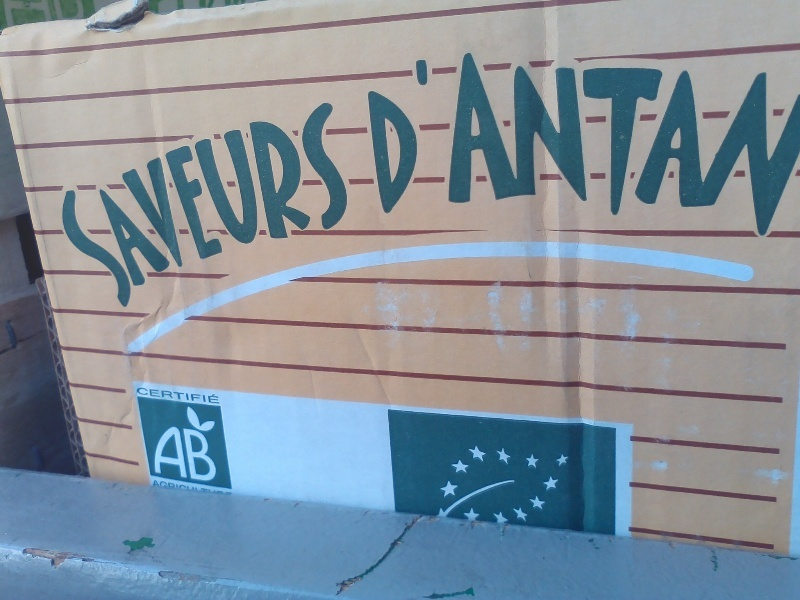text: (49, 94, 64, 316), (65, 94, 80, 316), (81, 94, 96, 316), (97, 94, 112, 316), (113, 94, 128, 316), (129, 94, 144, 316), (145, 94, 160, 316), (161, 94, 176, 316), (177, 94, 192, 316), (193, 94, 208, 316), (209, 94, 224, 316), (225, 94, 240, 316), (241, 94, 256, 316), (257, 94, 272, 316), (273, 94, 288, 316), (289, 94, 304, 316), (305, 94, 320, 316), (321, 94, 336, 316), (337, 94, 352, 316), (353, 39, 368, 240), (369, 39, 384, 240), (385, 39, 400, 240), (401, 39, 416, 240), (417, 39, 432, 240), (433, 39, 448, 240), (449, 39, 464, 240), (465, 39, 480, 240), (481, 39, 496, 240), (497, 39, 512, 240), (513, 39, 528, 240), (529, 39, 544, 240), (545, 39, 560, 240), (561, 39, 576, 240), (577, 39, 592, 240), (593, 39, 608, 240), (609, 39, 624, 240), (625, 39, 640, 240), (641, 39, 656, 240), (657, 39, 672, 240), (673, 39, 688, 240), (689, 39, 704, 240), (705, 39, 720, 240), (721, 39, 736, 240), (737, 39, 752, 240), (753, 39, 768, 240), (769, 39, 784, 240), (785, 39, 799, 240), (353, 94, 365, 316), (145, 423, 160, 486), (161, 423, 176, 486), (177, 423, 192, 486), (193, 423, 208, 486), (209, 423, 219, 486), (145, 385, 160, 405), (161, 385, 176, 405), (177, 385, 192, 405), (193, 385, 208, 405), (161, 479, 176, 499), (177, 479, 192, 499), (193, 479, 208, 499), (209, 479, 224, 499), (209, 385, 222, 405), (47, 94, 48, 316), (150, 479, 160, 499), (225, 479, 233, 499), (138, 385, 144, 405)
